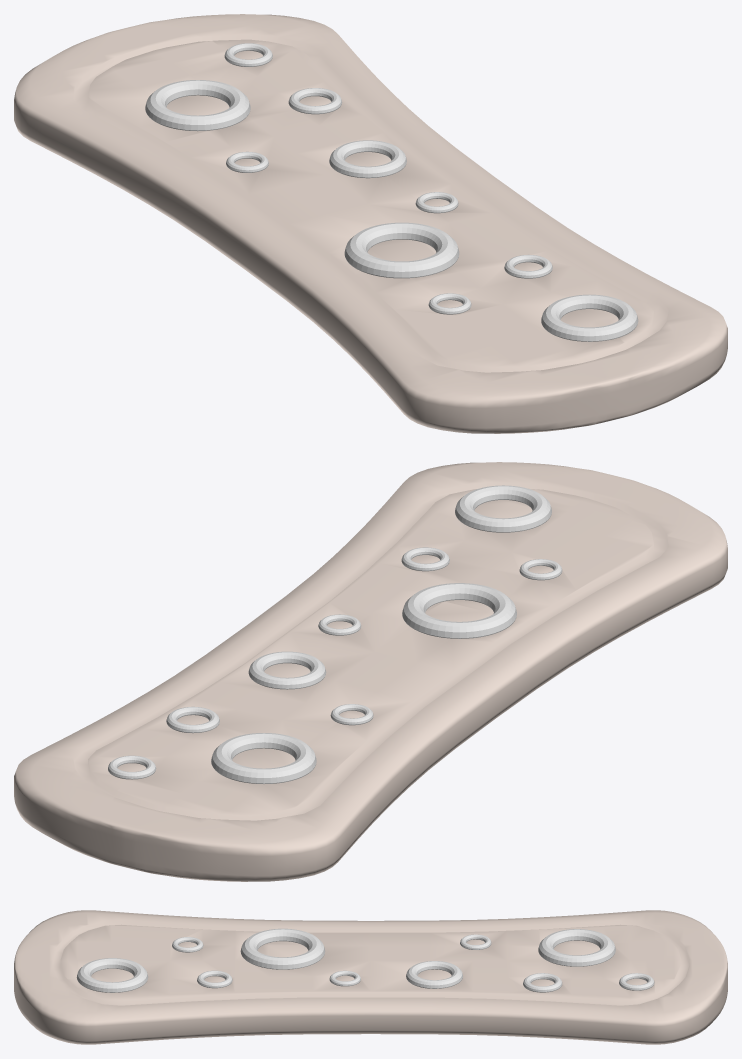
The model's file is PantyLinerCircles.fbx.
3 renders of one model, top to bottom at view 1: azimuth 30°, elevation 25°; view 2: azimuth 150°, elevation 25°; view 3: azimuth 270°, elevation 25°, orthographic. The views are drawn at different scales.
Parts seen in each view (by area): view 1: Cube, Torus.005; view 2: Cube, Torus.005; view 3: Cube, Torus.005.
Boxes of the visible parts, x1,y1,x2,y2 form: Cube: (14,14,727,433); Torus.005: (145,43,638,341); Cube: (14,462,727,881); Torus.005: (108,485,562,783); Cube: (14,910,727,1044); Torus.005: (76,928,654,992).
Bounding box in the file's own units: 106 × 16.83 × 286.
